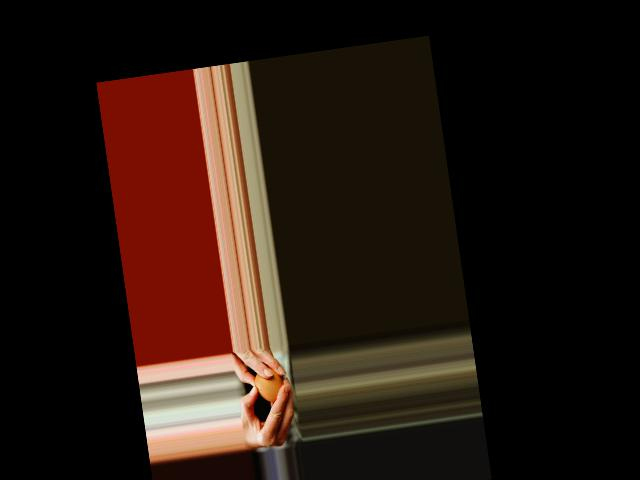egg: (253, 365, 286, 403)
